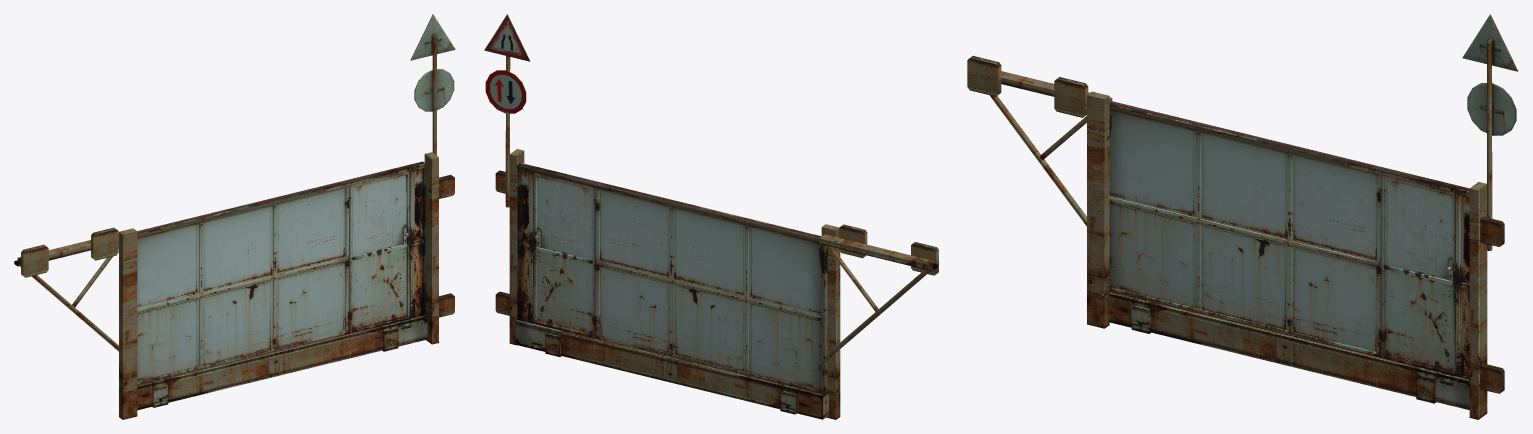
File: SlindingGate.FBX
3 views of the same model, side by side, from view 1: azimuth 30°, elevation 25°; view 2: azimuth 150°, elevation 25°; view 3: azimuth 330°, elevation 25° (orthographic). The views are drawn at different scales.
Parts seen in each view (by area): view 1: GateSlinding, GateStatic; view 2: GateSlinding, GateStatic; view 3: GateSlinding, GateStatic.
Boxes of the visible parts, x1=… form: GateSlinding: x1=14, y1=161, x2=427, y2=410; GateStatic: x1=17, y1=14, x2=455, y2=419; GateSlinding: x1=515, y1=163, x2=937, y2=419; GateStatic: x1=484, y1=14, x2=938, y2=419; GateSlinding: x1=990, y1=95, x2=1469, y2=409; GateStatic: x1=967, y1=14, x2=1518, y2=419.
Bounding box in the file's own units: 79.1 × 55.28 × 3.3.
Materials: 1 (1 with a texture image).
